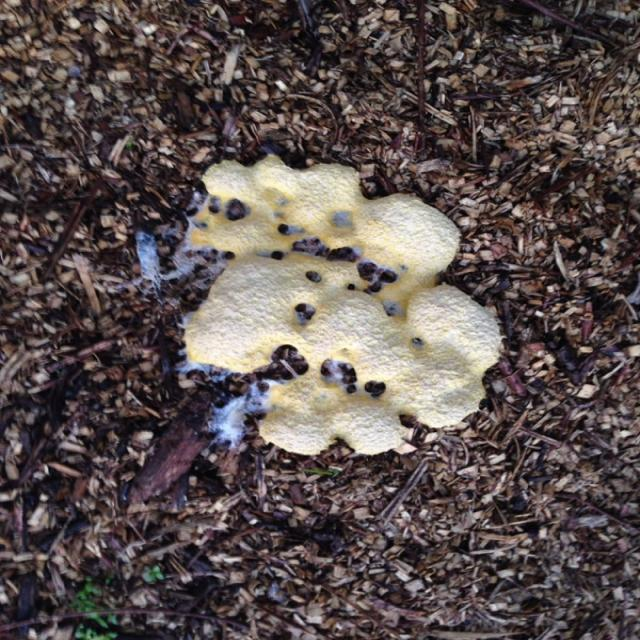Dog_vomit_slime_mold: (142, 141, 523, 478)
